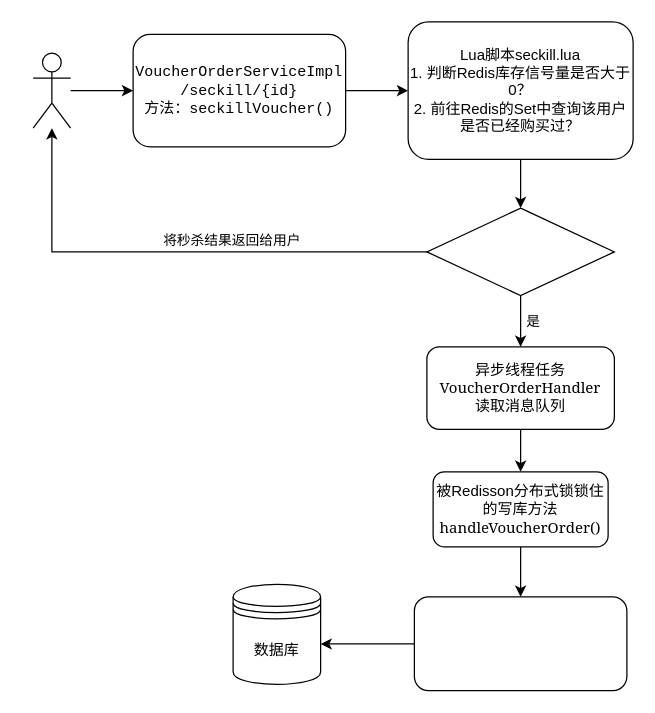
This 655x713 diagram has some shape labels left out. Here are the shapes that lost their labels. From the top down, the box of each, then its label:
(32, 52, 71, 128): 秒杀用户
(426, 207, 614, 296): 是否有购买资格？
(413, 596, 627, 691): 由当前类的代理类对象调用的写库方法 proxy.createVoucherOrder()
